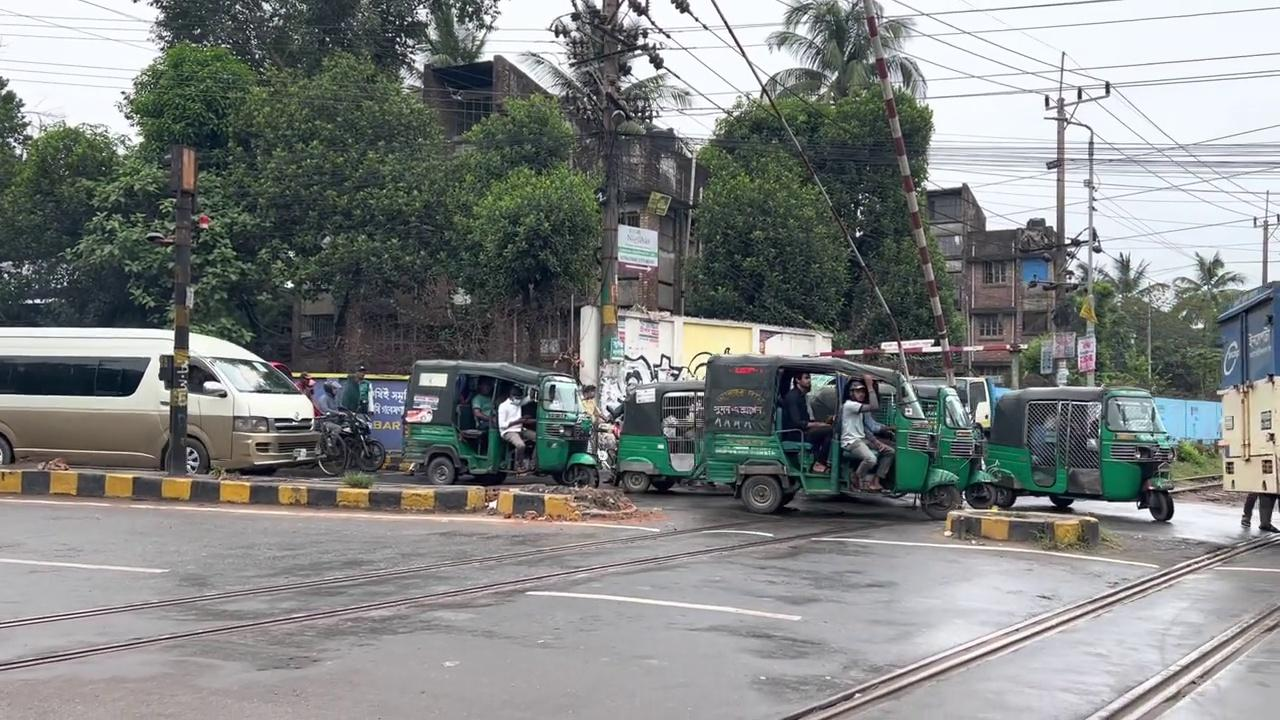Fence: (838, 376, 895, 491), (782, 370, 834, 473), (497, 384, 536, 475), (1240, 492, 1279, 532)
Garbage: (860, 0, 957, 387), (145, 143, 209, 476), (165, 143, 195, 476)
Motorcycle: (0, 515, 869, 671), (781, 528, 1278, 717)
Rickshaw: (981, 384, 1177, 522), (398, 358, 600, 487), (907, 374, 1010, 436)
